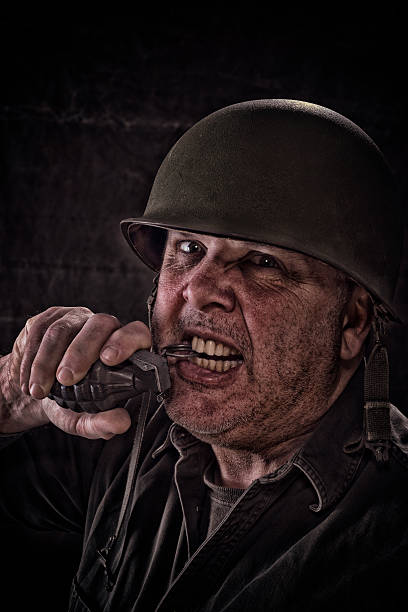e1: (49, 346, 195, 410)
